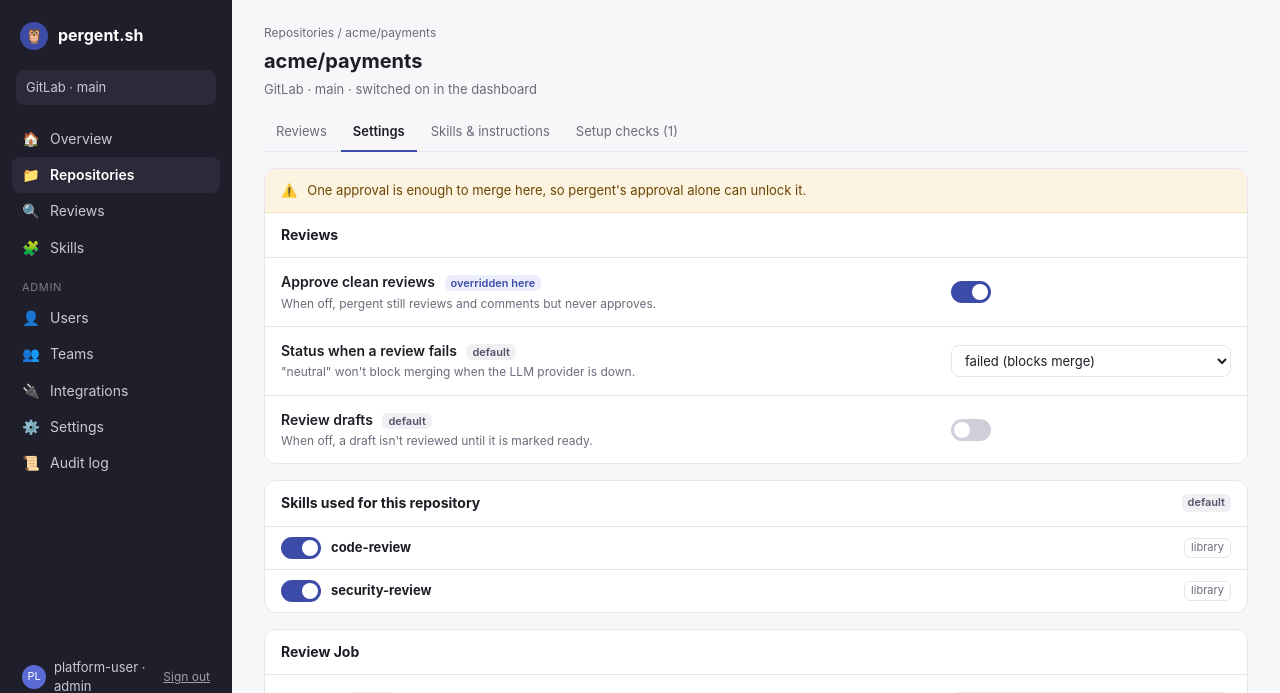
Test: RepositoryDetail › saves only what changed, with the CSRF token
The image size is (1280, 693).
Click the switch named "Approve clean reviews". click: {"x": 971, "y": 292}
box: [951,281,991,303]
(page scrolled)
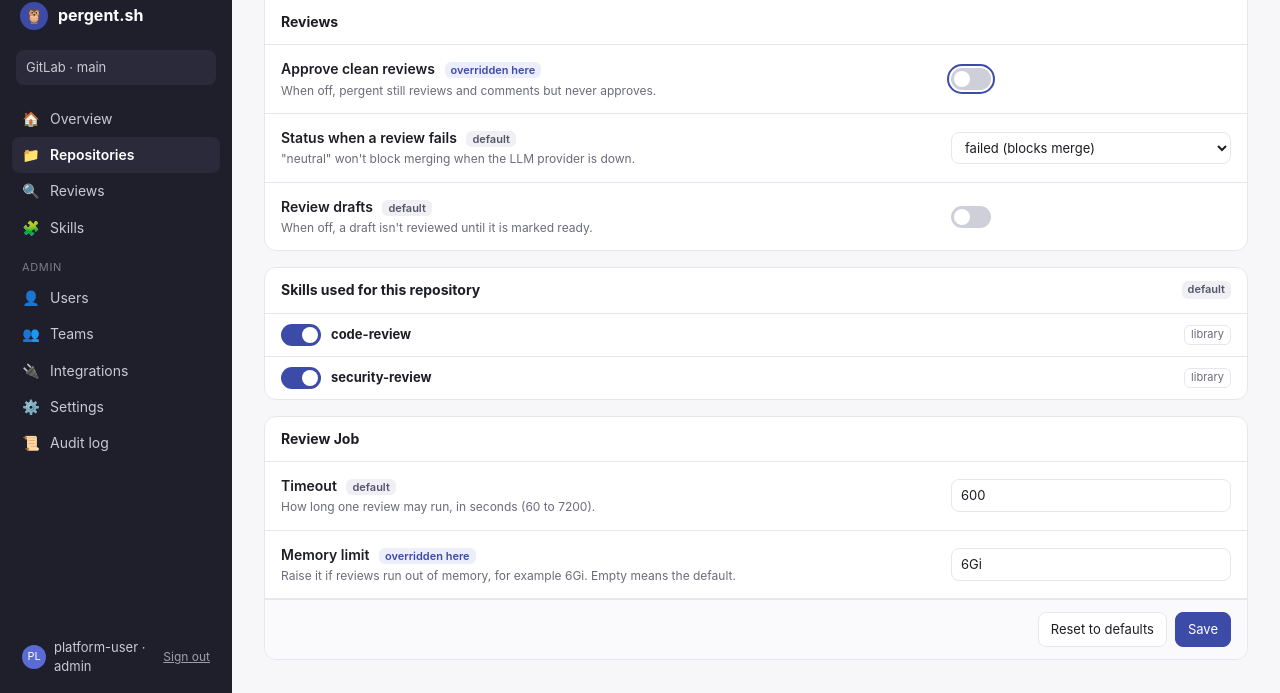
Replace the text in the number field named "Timeout (seconds)" with "900". click: {"x": 1091, "y": 496}
box: [951,479,1231,512]
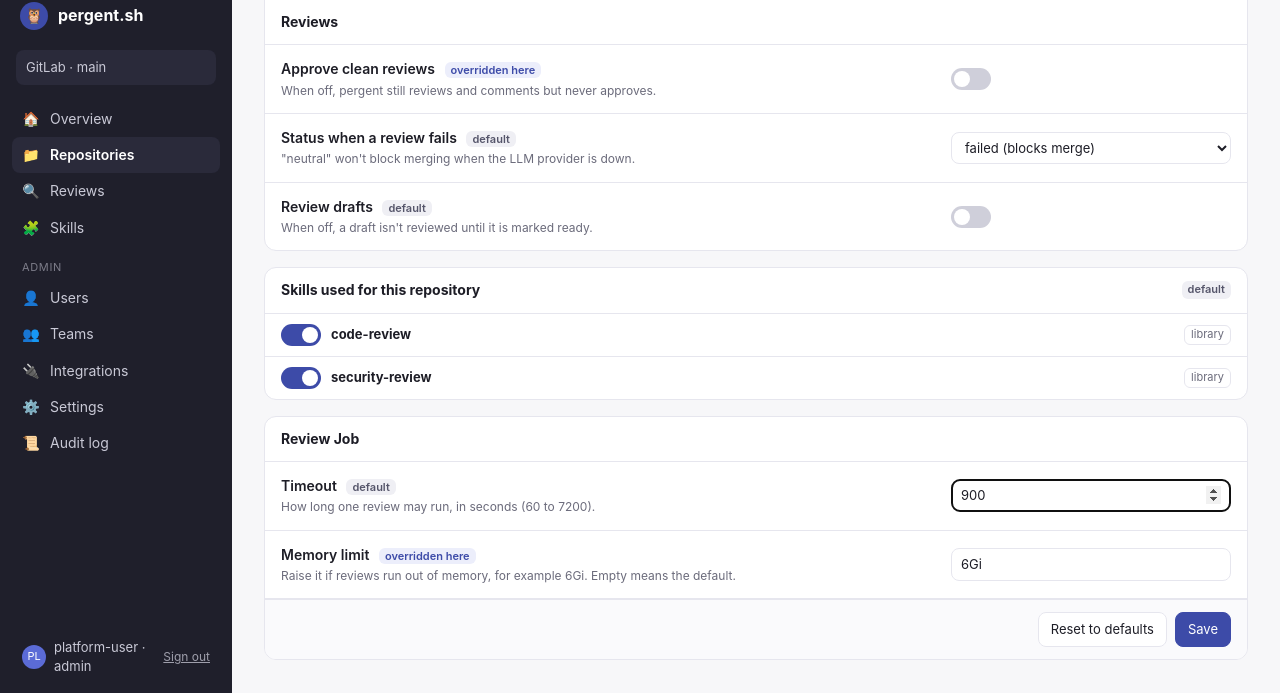
Click the switch named "Skill security-review". click: {"x": 301, "y": 378}
box: [281,367,321,389]
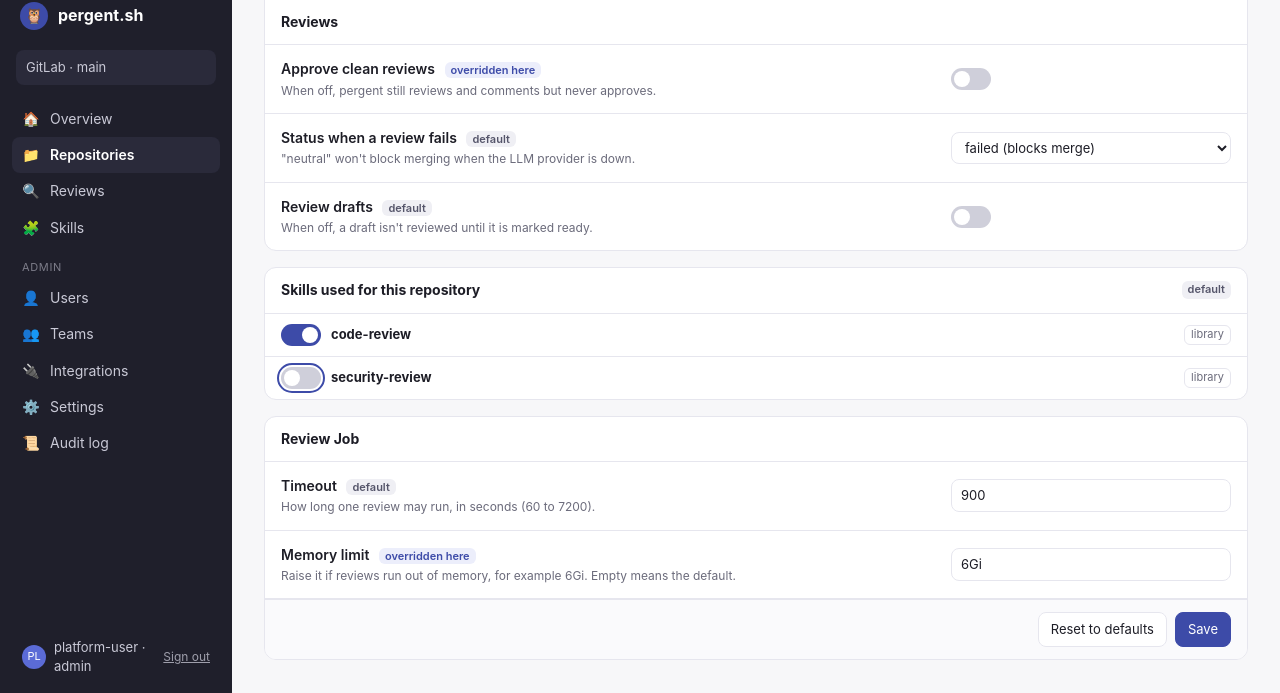
Click the button "Save". click: {"x": 1203, "y": 630}
box: [1175,612,1231,647]
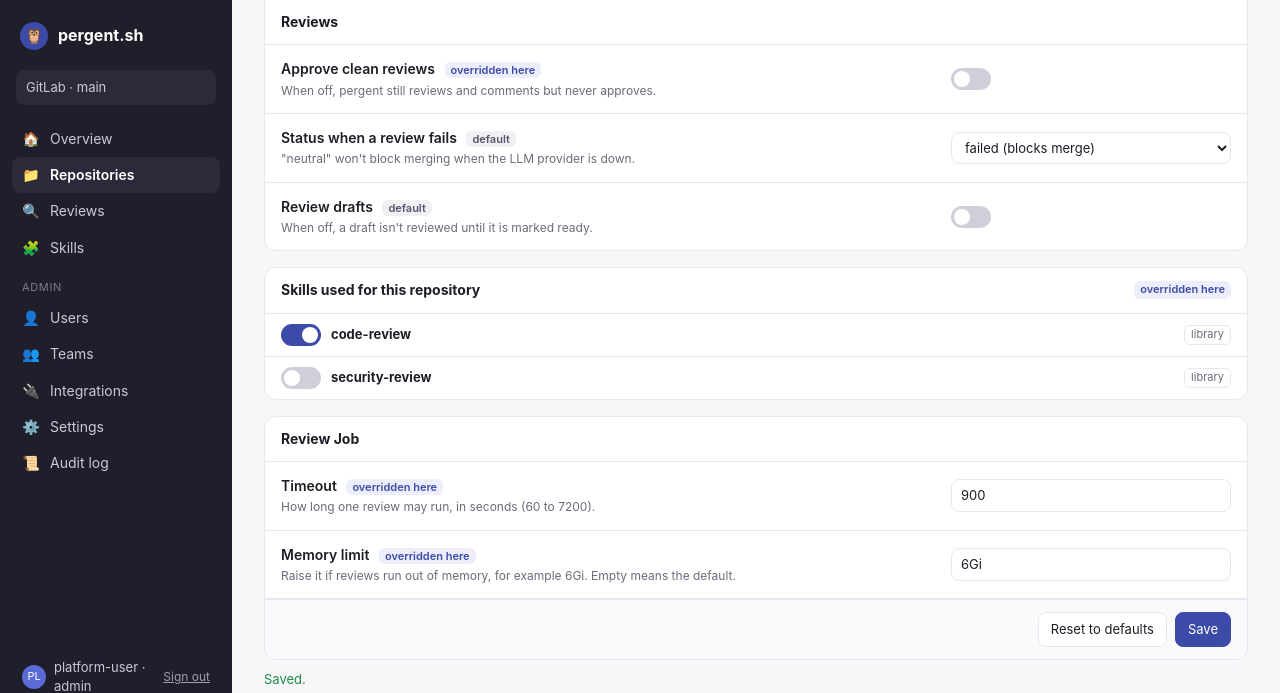
Check: the text "Saved." is shown, box [264,671,306,687]
Check: the text "overridden here" next to "Timeout" is shown, box [352,480,437,494]
